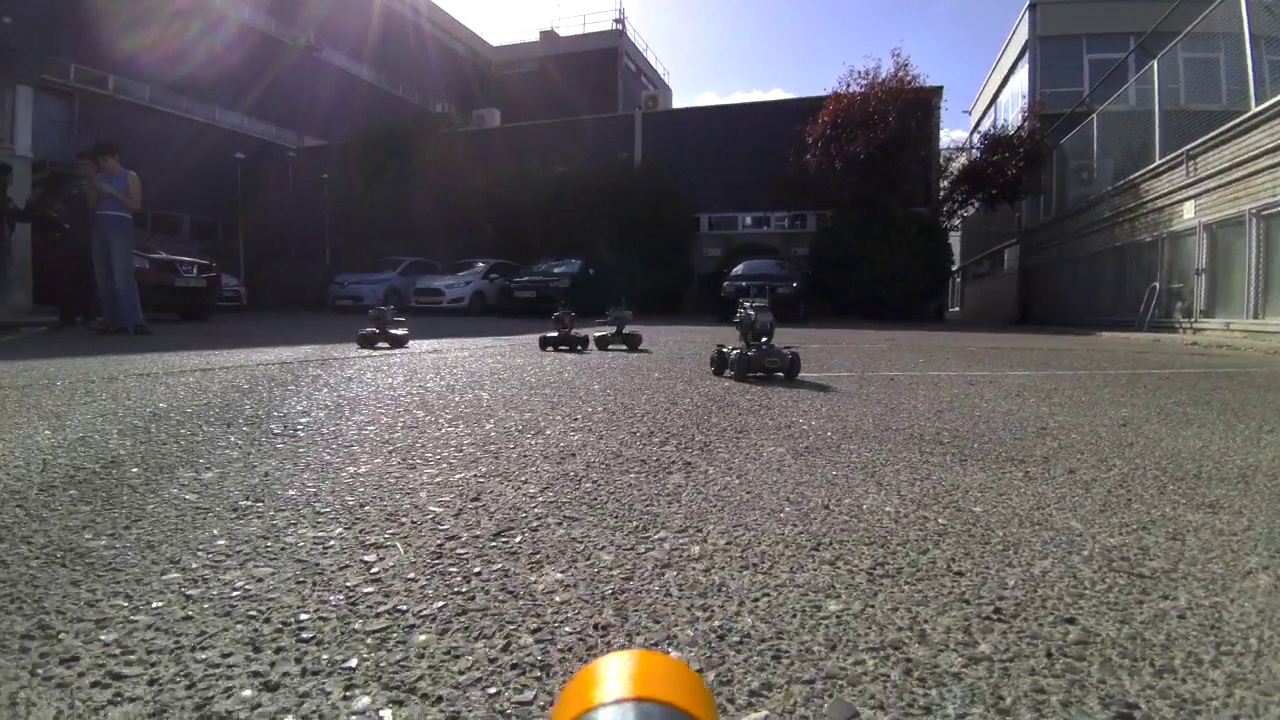robot: (702, 294, 806, 389), (349, 297, 416, 355), (589, 298, 649, 356), (529, 303, 592, 350)
